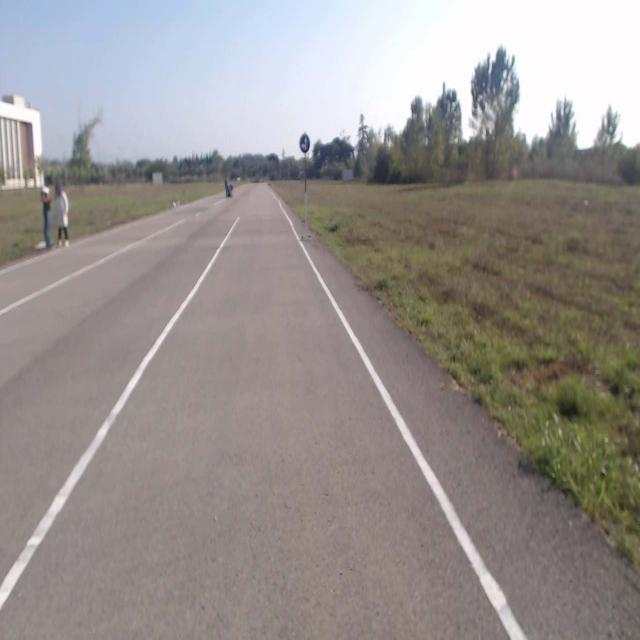ilerisol: (300, 133, 310, 152)
